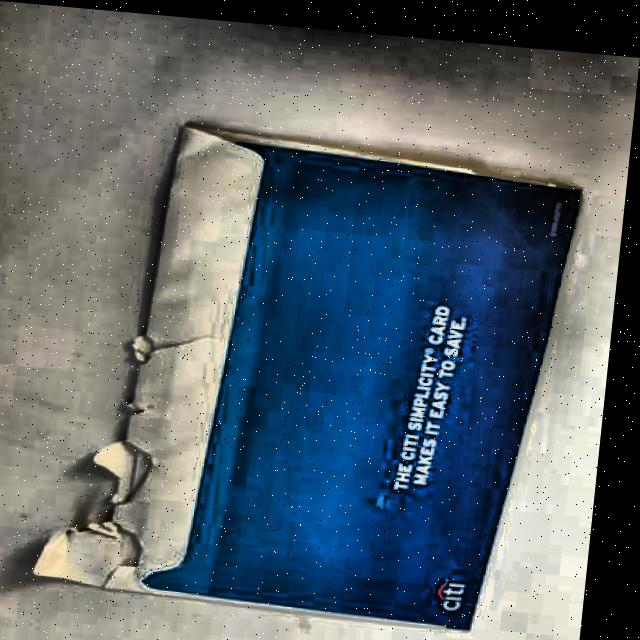paper: (29, 113, 587, 637)
